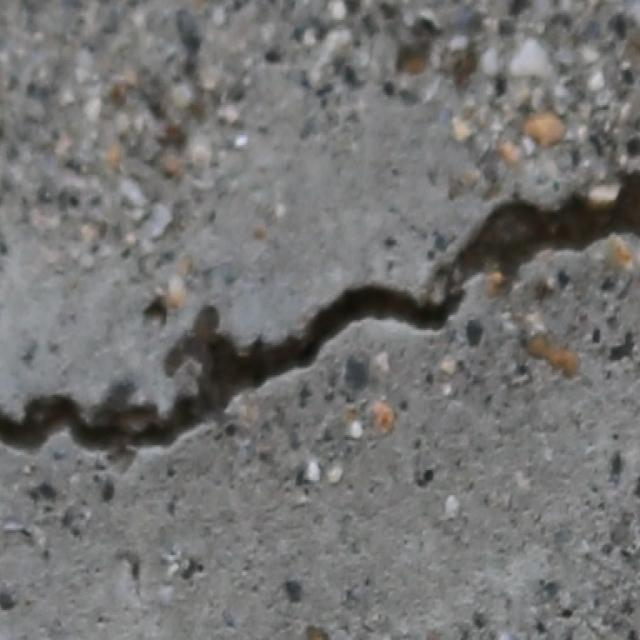Diagonal: (0, 156, 640, 467)
